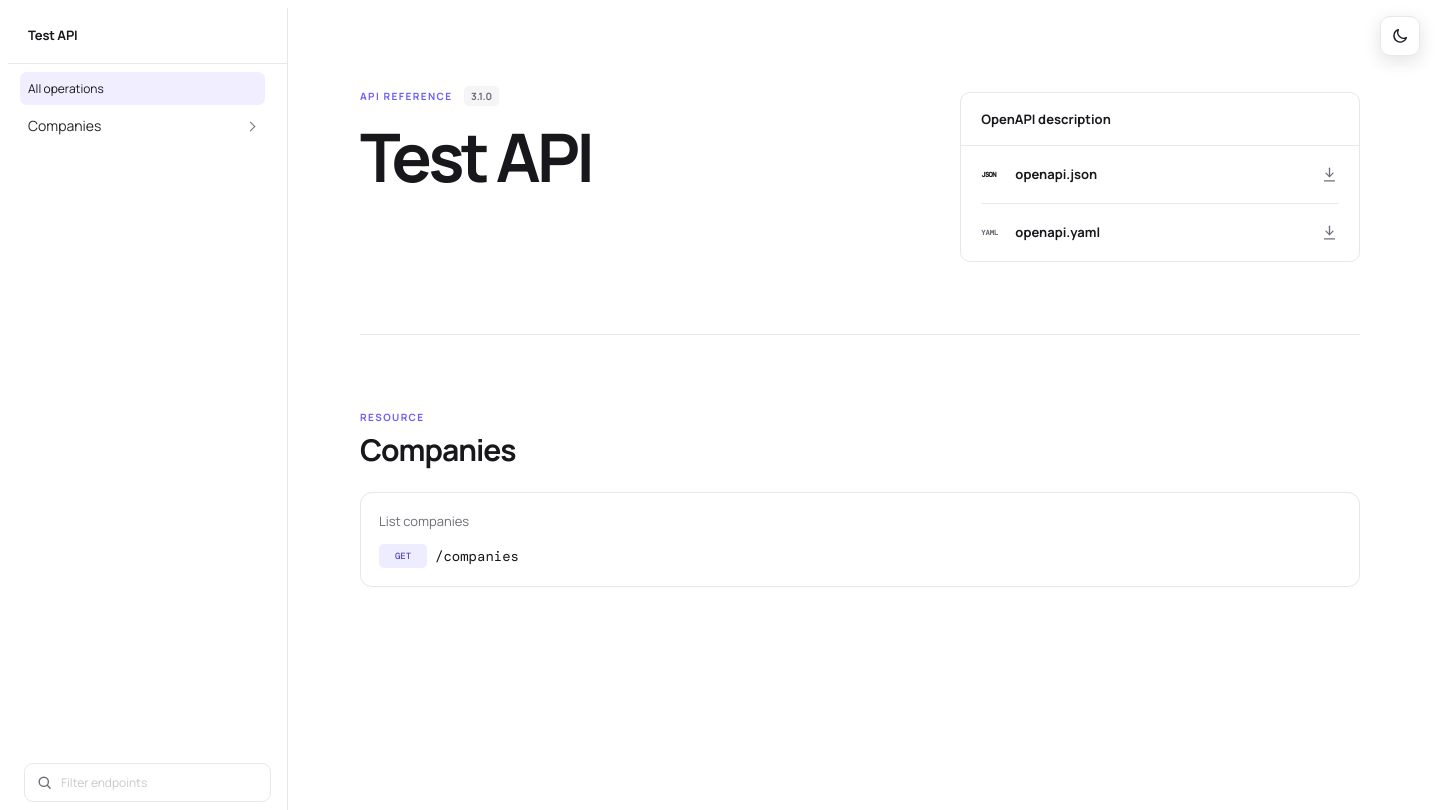
it: Speccy navigation › renders each endpoint on its own route
The image size is (1440, 810).
Expected: the link "List companies GET /companies" is shown, [360,492,1360,587]
What coordinates should you click on to do the following:
click the button "Companies"
I would click on:
 (142, 126)
Its box is [20,111,265,142].
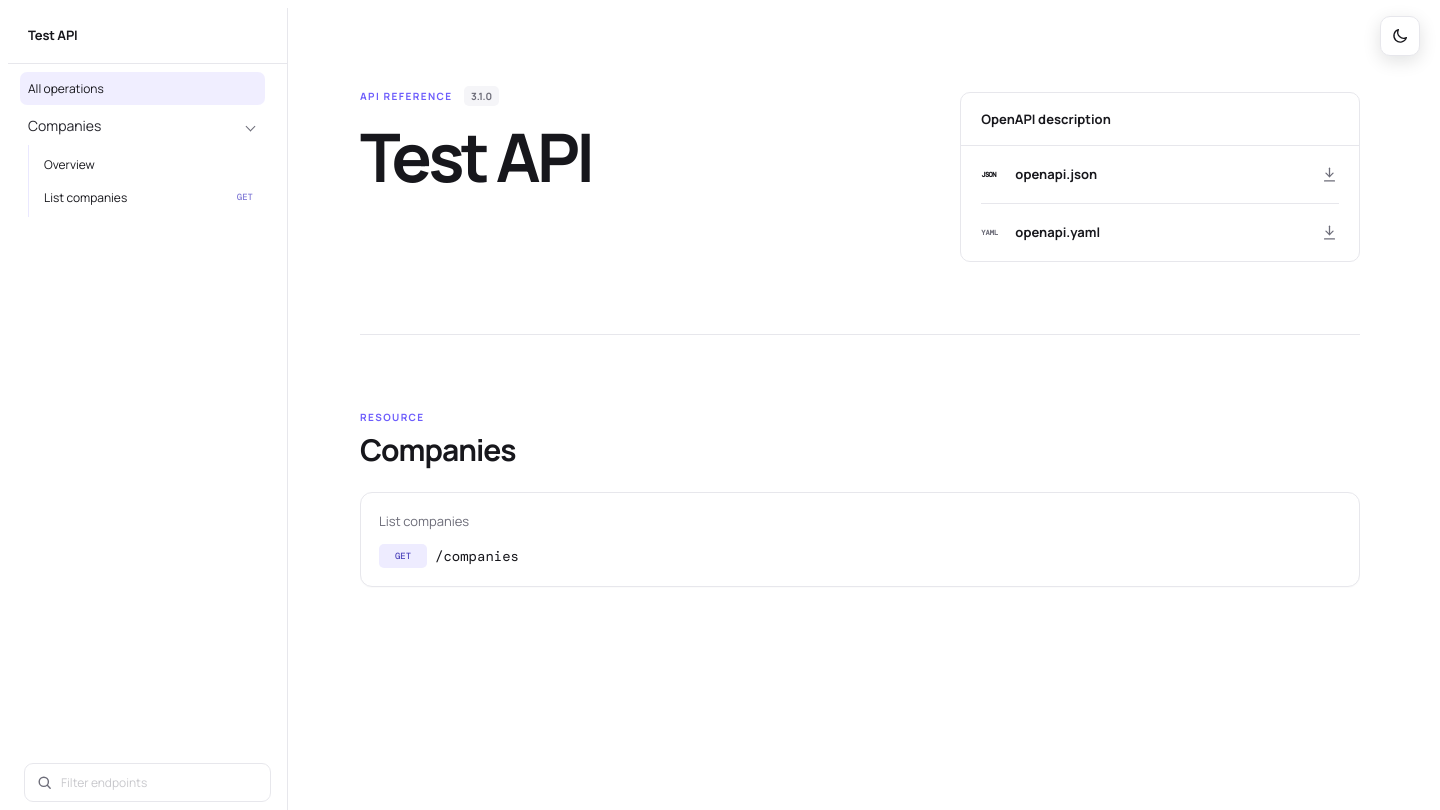
What coordinates should you click on to do the following:
click the link "List companies GET"
I would click on:
 (86, 197)
Its box is [44,189,253,206].
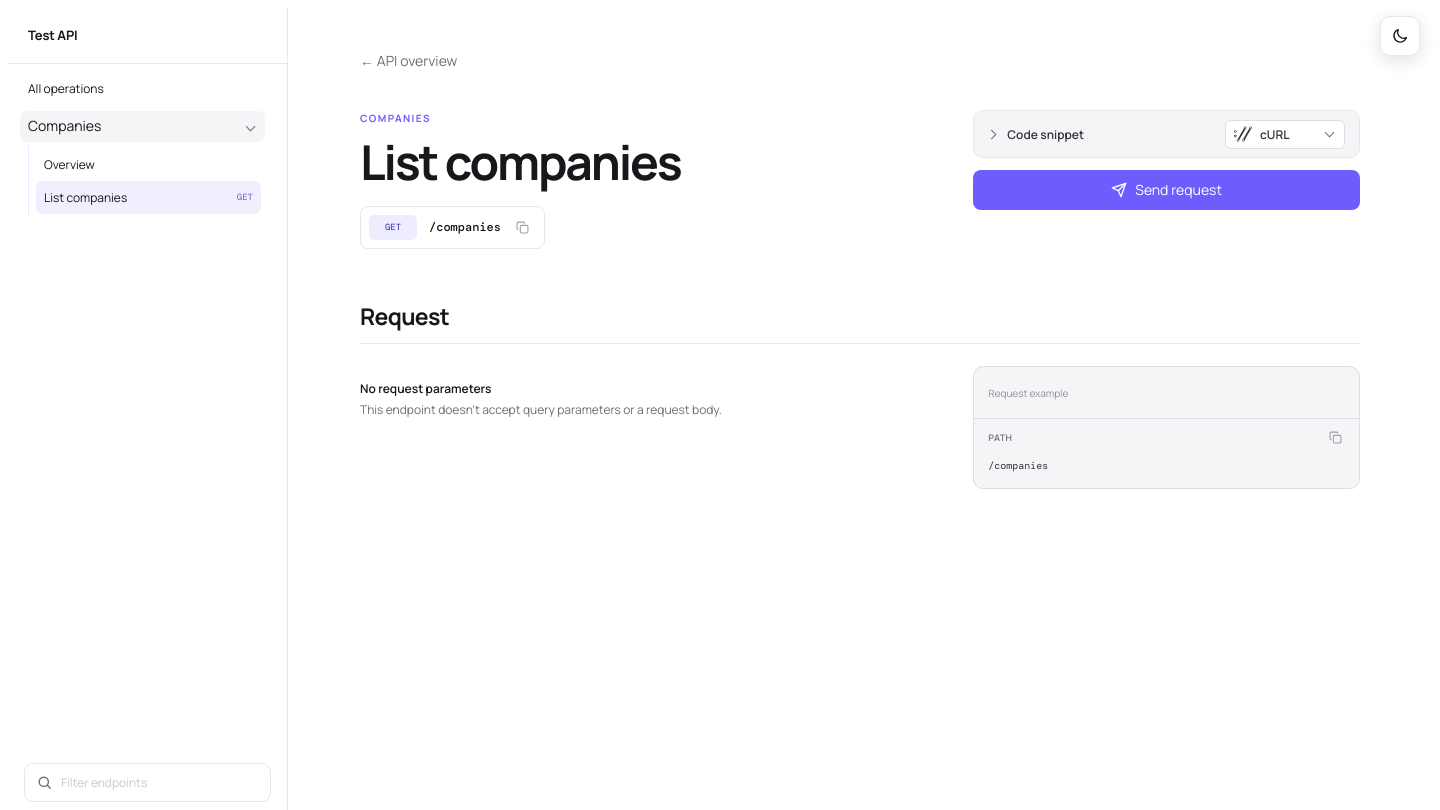
Result: the heading "List companies" is shown at [360,136,680,188]
Result: the element named "Request builder" is shown at [973,110,1360,210]
What coordinates should you click on to do the following:
click the button "← API overview"
I would click on:
 (409, 61)
Its box is [360,50,457,72].
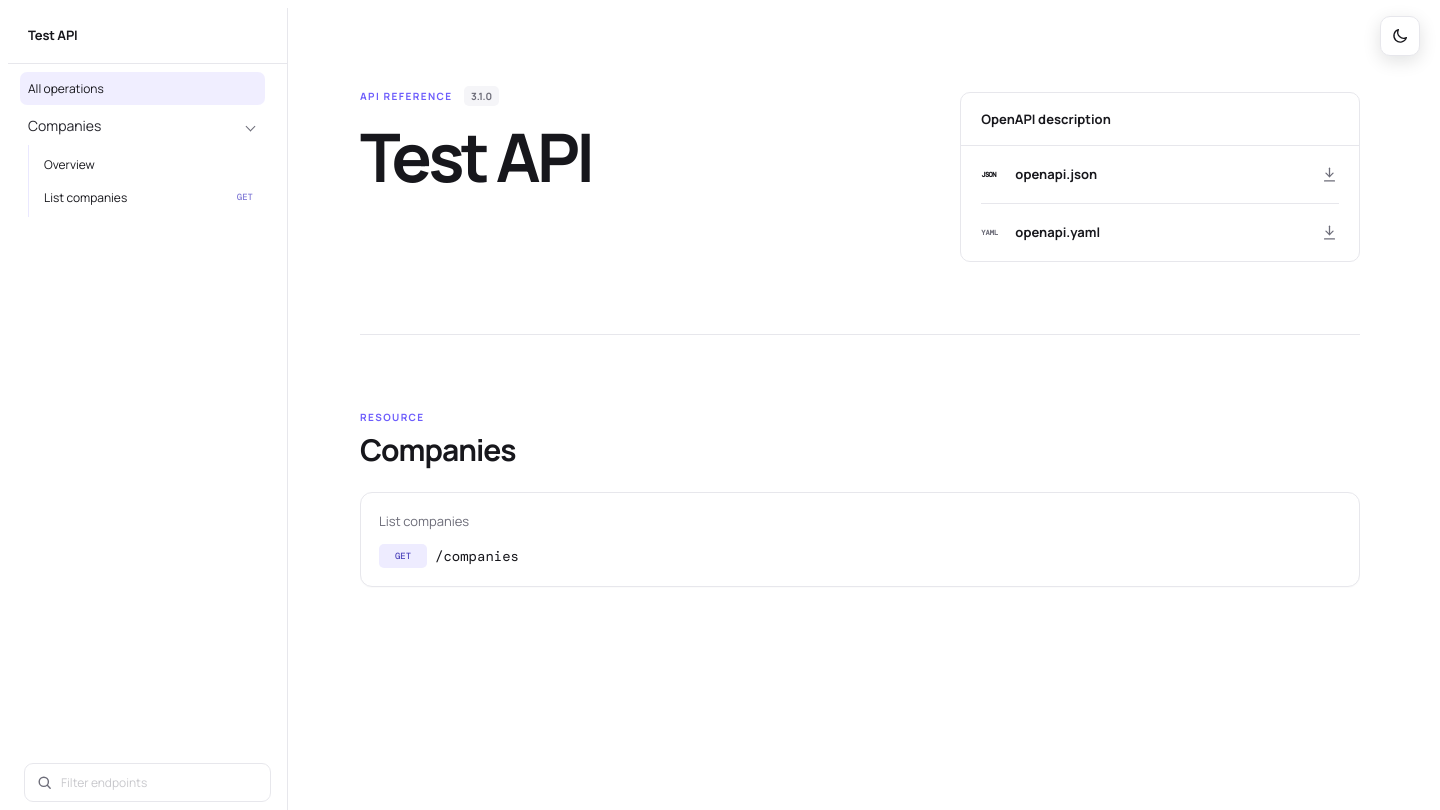
Result: the heading "Test API" is shown at [360,111,591,202]
